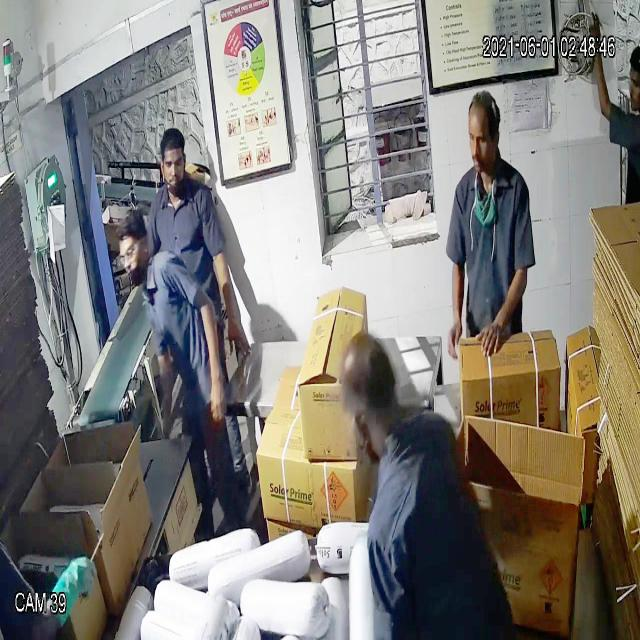glasses: (109, 240, 151, 274)
no-glass: (464, 117, 502, 155), (159, 148, 189, 177)
